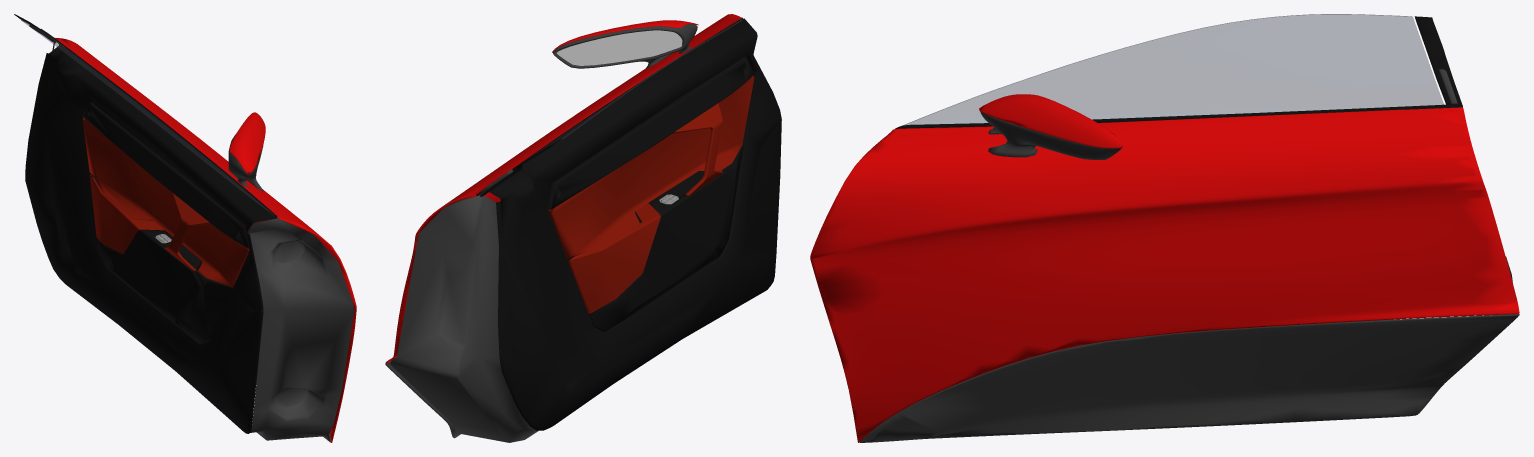
3 views of the same model, side by side, from view 1: azimuth 30°, elevation 25°; view 2: azimuth 150°, elevation 25°; view 3: azimuth 270°, elevation 25° (orthographic). The views are drawn at different scales.
Visible parts, largest first — view 1: InteriorDoorL01, InteriorDoorL04, BodyDoorLColor1, BodyDoorLWindow, BodyDoorLHandle01, BodyDoorLColor2; view 2: InteriorDoorL01, InteriorDoorL04, BodyDoorLColor1, BodyDoorLMirror, BodyDoorLColor2, BodyDoorLHandle01, BodyDoorLWindow; view 3: BodyDoorLColor1, BodyDoorLColor2, BodyDoorLWindow, BodyDoorLHandle01.
Part boxes in pixels (bbox=[...]): InteriorDoorL01: bbox=[25, 42, 354, 440]; InteriorDoorL04: bbox=[83, 118, 249, 287]; BodyDoorLColor1: bbox=[54, 37, 356, 442]; BodyDoorLWindow: bbox=[21, 20, 274, 215]; BodyDoorLHandle01: bbox=[14, 14, 276, 216]; BodyDoorLColor2: bbox=[41, 28, 330, 442]; InteriorDoorL01: bbox=[390, 18, 781, 442]; InteriorDoorL04: bbox=[548, 76, 754, 314]; BodyDoorLColor1: bbox=[385, 14, 742, 363]; BodyDoorLMirror: bbox=[557, 30, 682, 65]; BodyDoorLColor2: bbox=[385, 24, 697, 438]; BodyDoorLHandle01: bbox=[476, 18, 742, 196]; BodyDoorLWindow: bbox=[530, 19, 742, 157]; BodyDoorLColor1: bbox=[810, 94, 1519, 442]; BodyDoorLColor2: bbox=[859, 69, 1519, 442]; BodyDoorLWindow: bbox=[904, 14, 1443, 125]; BodyDoorLHandle01: bbox=[895, 16, 1462, 128].
Size of the model in its own units: 0.4344 by 0.9591 by 1.67.
